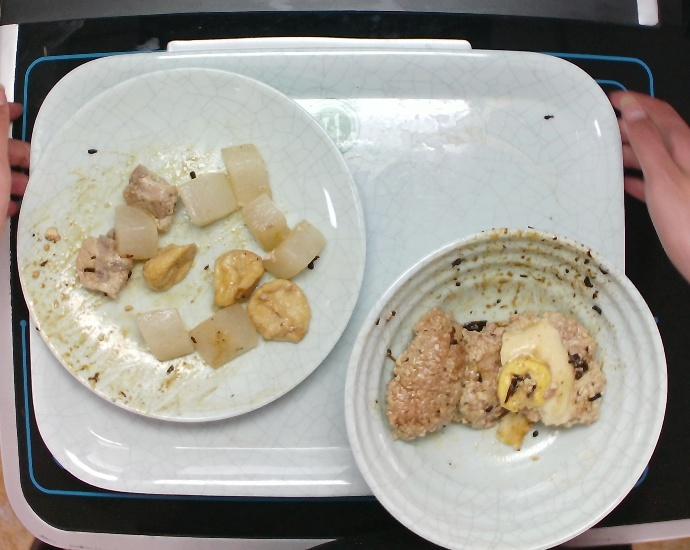JYsf-Da_Tang_Wan: (341, 226, 670, 550)
JYsf-Da_Yuan_Pan: (14, 63, 368, 425)
